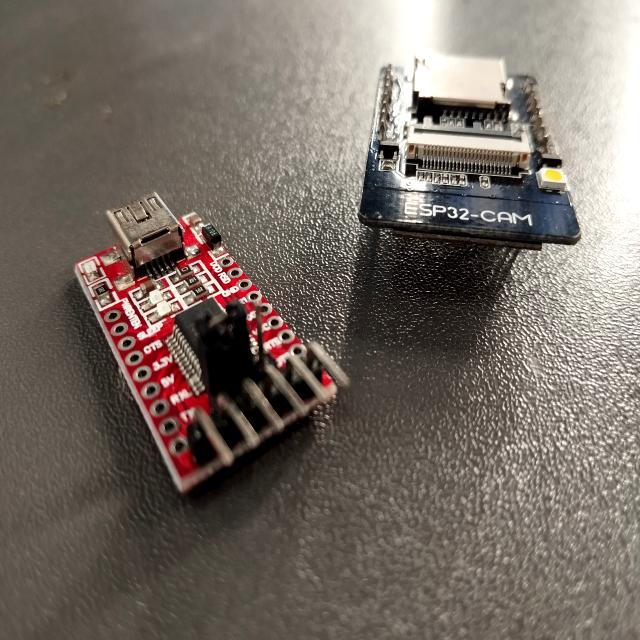ESP32-CAM: (354, 42, 584, 270)
FT-232-USB-Serial-Module: (69, 186, 355, 506)
